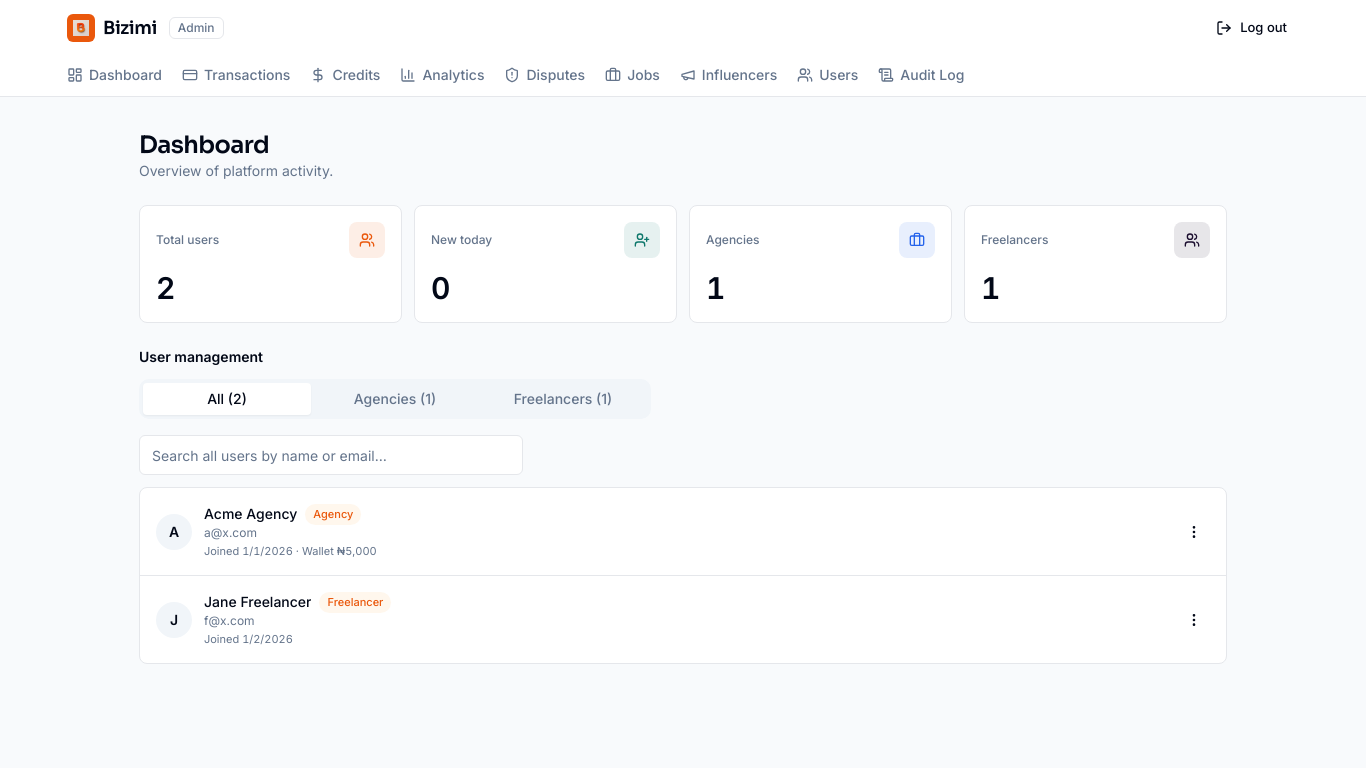
Test case: AdminDashboard › filters the All tab by search term
The image size is (1366, 768).
Type "Jane" into the field with placeholder "Search all users by name or email…" at (331, 455), box [139,435,523,475]
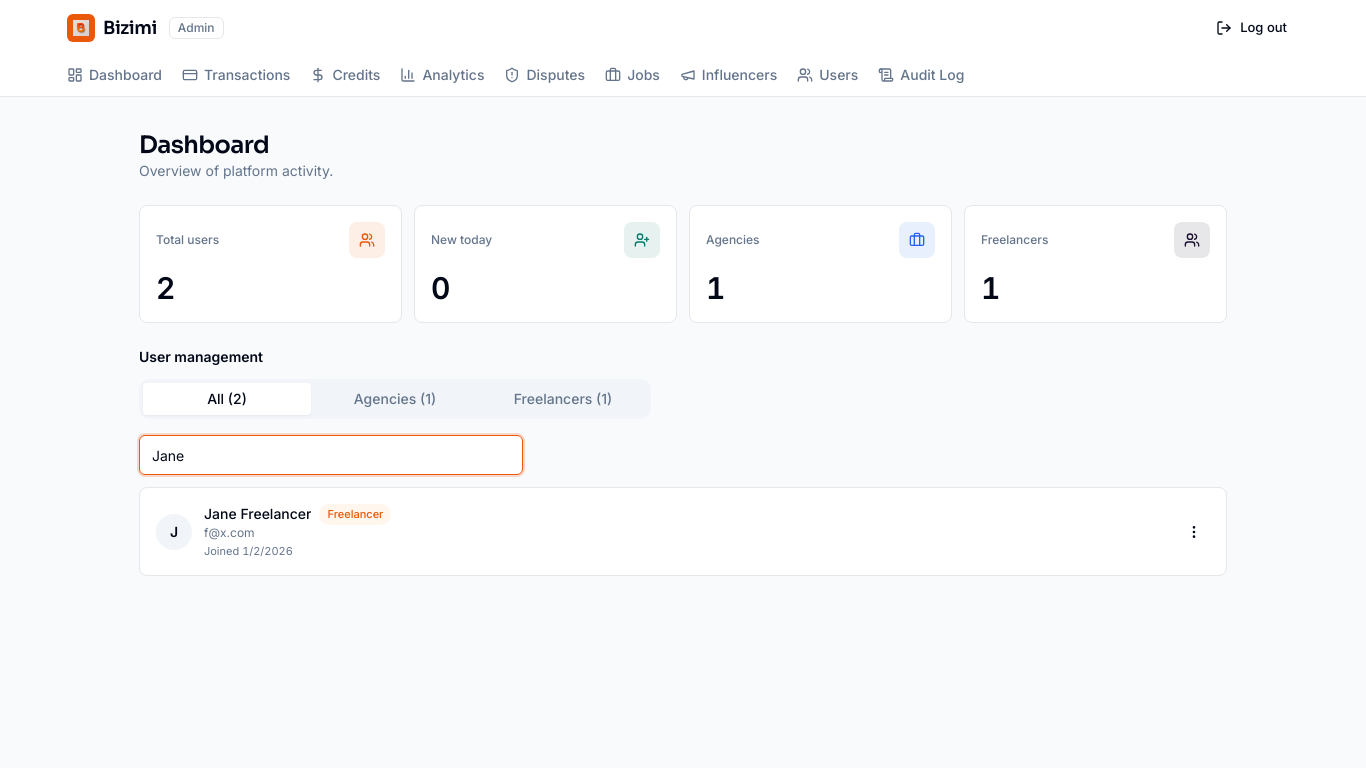
Expected: the heading "Jane Freelancer" is shown, [204,504,312,524]
Now the heading "Acme Agency" is gone
